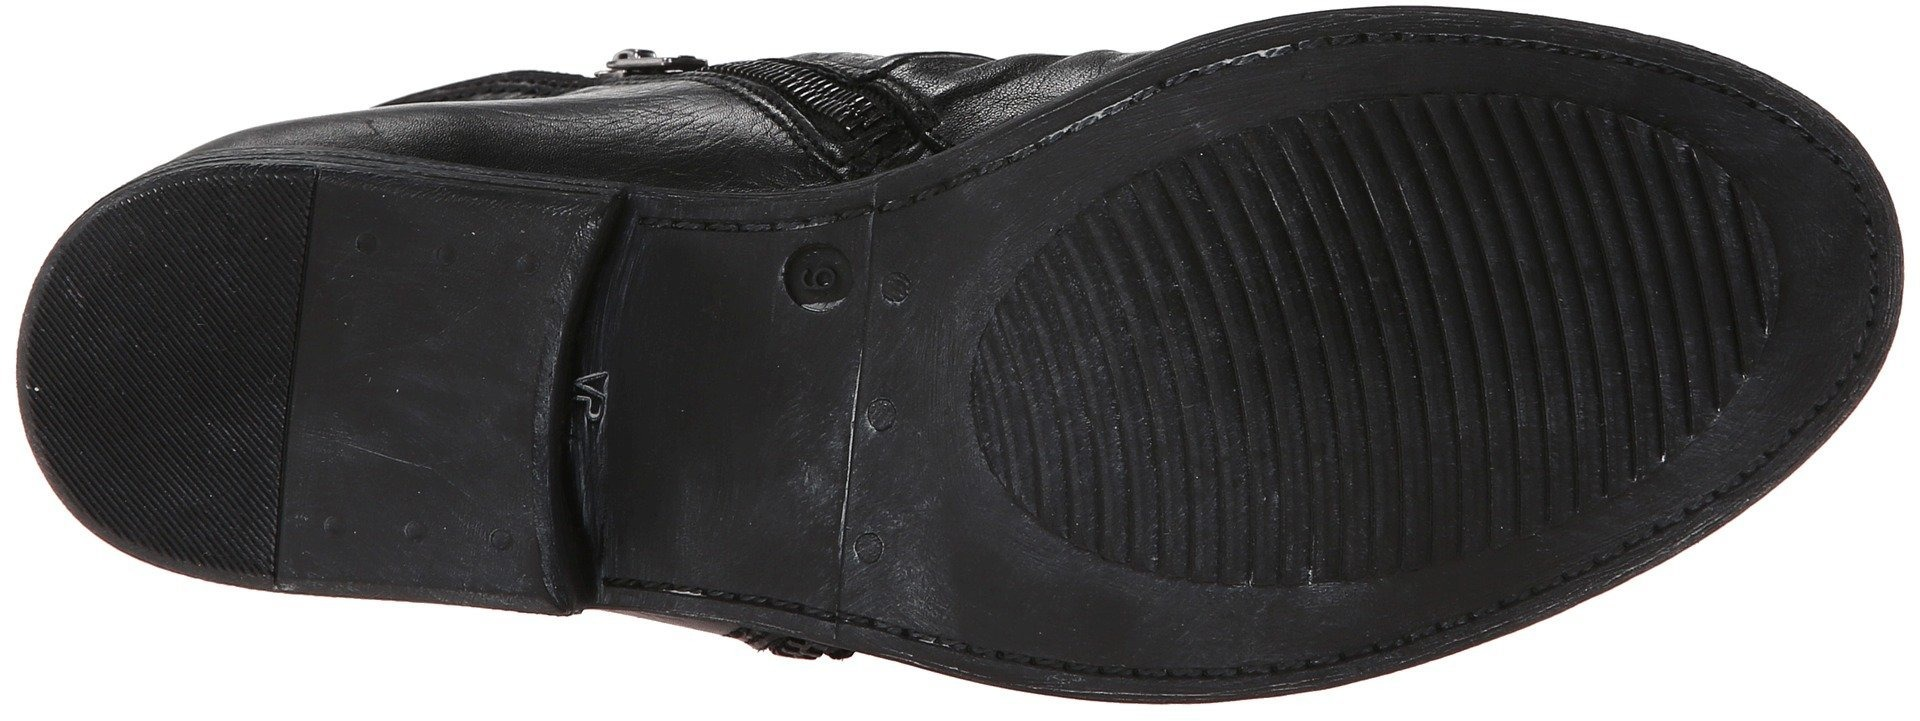other: (69, 244, 279, 454), (320, 223, 531, 426), (378, 436, 524, 588)
quad: (1004, 252, 1330, 605), (1356, 116, 1693, 453)
